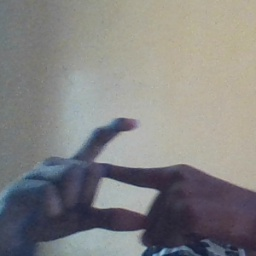E: (61, 114, 175, 237)
